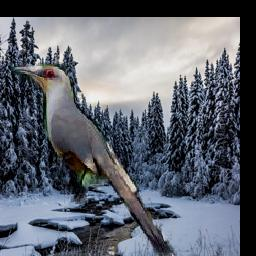Cuckoo: (11, 62, 177, 256)
